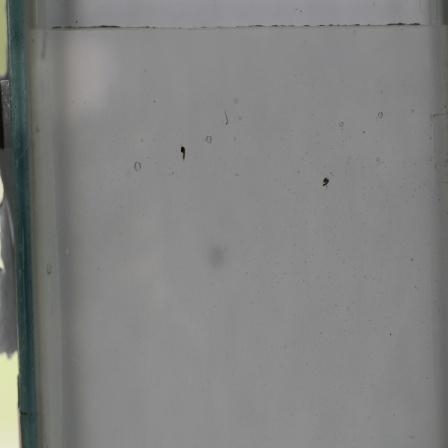Jentik-Nyamuk: (177, 142, 190, 164), (318, 174, 334, 190)
